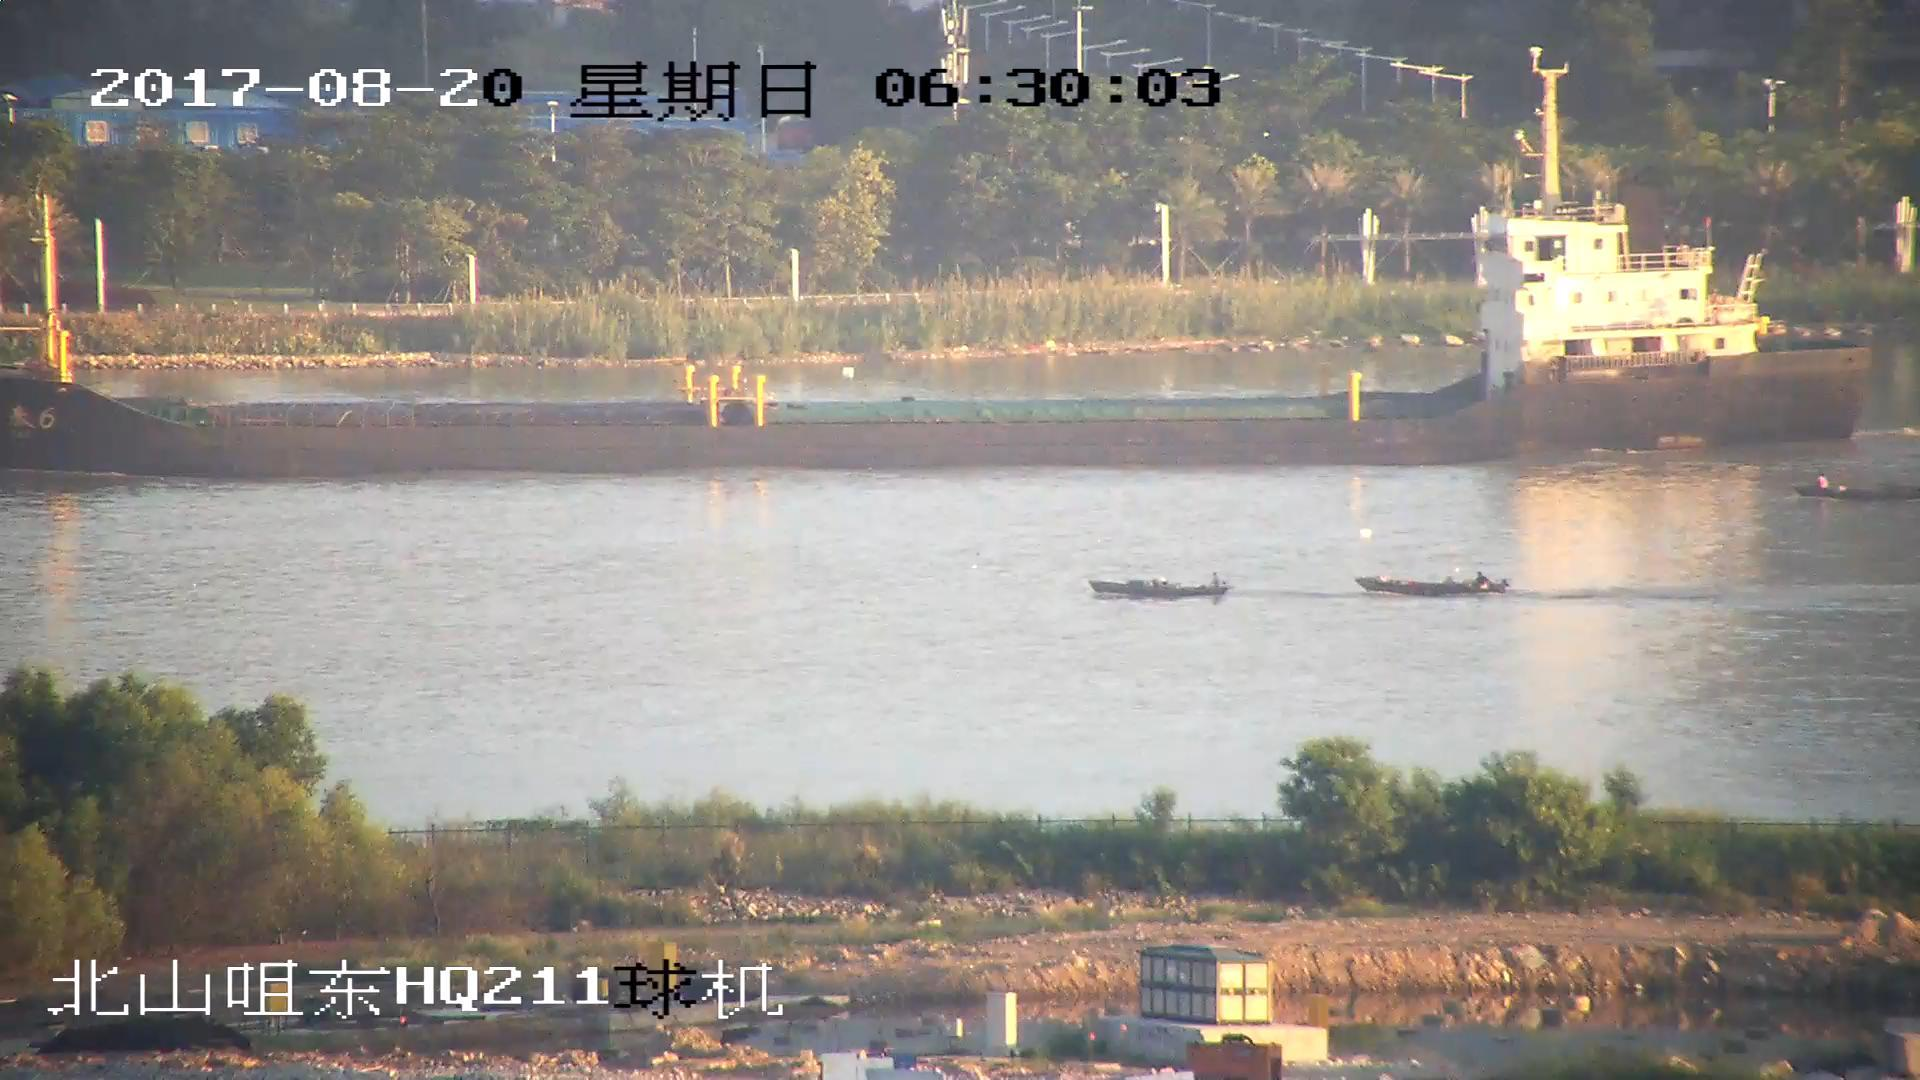Ship: (3, 123, 1869, 475), (1362, 567, 1514, 599), (1092, 575, 1234, 605), (1803, 469, 1920, 501)
